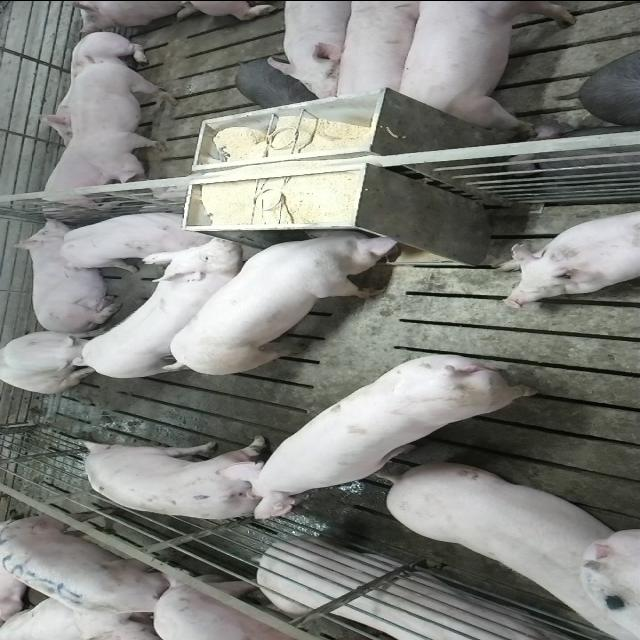Feeding: (162, 220, 408, 370)
Sitting: (1, 328, 107, 392)
Standing: (240, 348, 550, 514), (377, 457, 632, 634), (80, 240, 258, 384), (392, 2, 582, 134), (0, 514, 206, 620), (74, 434, 276, 522), (68, 58, 178, 186), (333, 2, 429, 104), (60, 208, 212, 268), (267, 0, 355, 101)
Sternal_lying: (499, 204, 640, 304), (30, 32, 154, 142), (12, 218, 124, 329), (34, 138, 119, 212)
